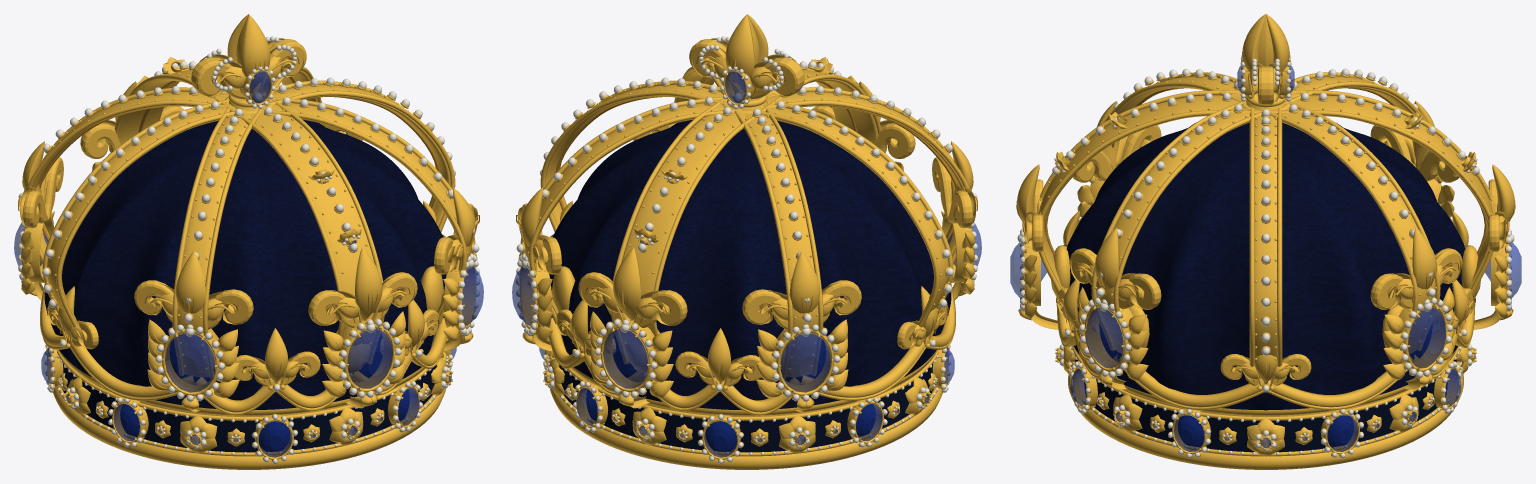
The model's file is crown.glb.
3 views of the same model, side by side, from view 1: azimuth 30°, elevation 25°; view 2: azimuth 150°, elevation 25°; view 3: azimuth 270°, elevation 25° (orthographic).
Parts seen in each view (by area): view 1: Polished 22k gold, Royal blue gathered velvet, Warm white cultured pearl, Royal blue cut sapphire, Midnight blue enamel inlay, Gold in engraved recesses; view 2: Polished 22k gold, Royal blue gathered velvet, Warm white cultured pearl, Royal blue cut sapphire, Midnight blue enamel inlay, Gold in engraved recesses; view 3: Polished 22k gold, Royal blue gathered velvet, Warm white cultured pearl, Royal blue cut sapphire, Midnight blue enamel inlay, Gold in engraved recesses.
Part boxes in pixels (box(x1,y1,x2,y2)): Polished 22k gold: box(19, 14, 479, 469); Royal blue gathered velvet: box(44, 120, 446, 410); Warm white cultured pearl: box(17, 36, 479, 463); Royal blue cut sapphire: box(14, 71, 483, 457); Midnight blue enamel inlay: box(62, 363, 436, 452); Gold in engraved recesses: box(18, 55, 479, 382); Polished 22k gold: box(516, 14, 976, 469); Royal blue gathered velvet: box(549, 120, 951, 410); Warm white cultured pearl: box(516, 36, 978, 463); Royal blue cut sapphire: box(512, 71, 981, 457); Midnight blue enamel inlay: box(559, 363, 933, 452); Gold in engraved recesses: box(516, 55, 977, 382); Polished 22k gold: box(1016, 14, 1515, 469); Royal blue gathered velvet: box(1066, 122, 1465, 410); Warm white cultured pearl: box(1017, 57, 1514, 458); Royal blue cut sapphire: box(1010, 65, 1521, 451); Midnight blue enamel inlay: box(1075, 356, 1456, 452); Gold in engraved recesses: box(1017, 55, 1514, 382).
Bounding box in the file's own units: 3.13 × 2.73 × 3.36.
Materials: 6 (1 with a texture image).
